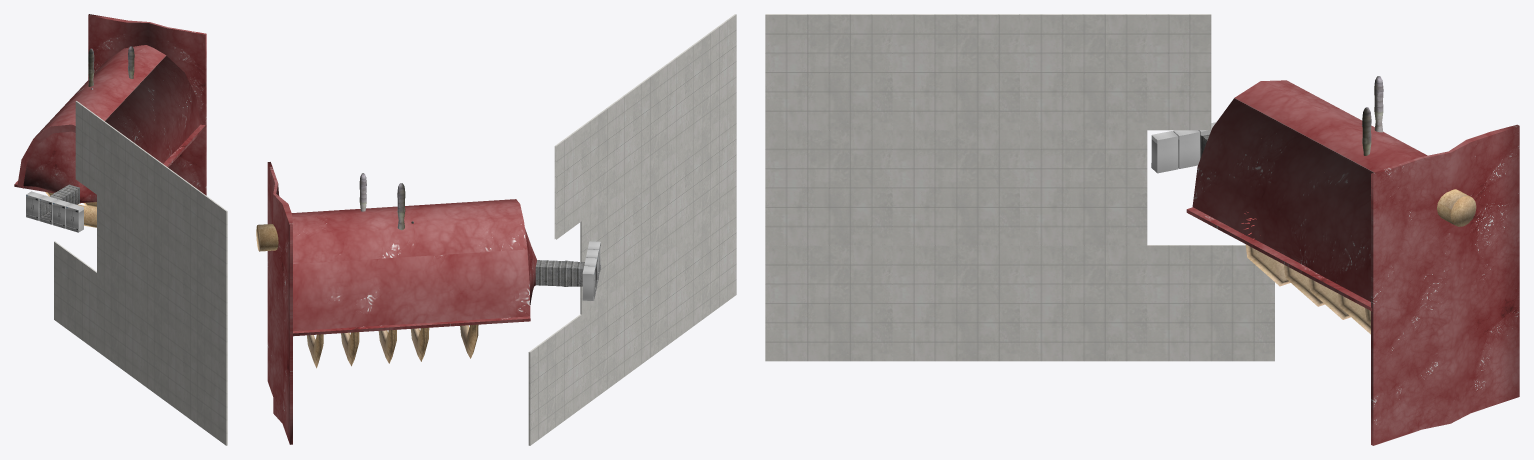
File: WhaleCum.fbx
3 renders of one model, left to right at view 1: azimuth 30°, elevation 25°; view 2: azimuth 150°, elevation 25°; view 3: azimuth 270°, elevation 25°, orthographic. The views are drawn at different scales.
Parts seen in each view (by area): view 1: Cube.447, Cylinder.127, Cube.580, Cube.083, Cube.270, Cube.390, bone_arch32.001, Cube.393; view 2: Cube.447, Cylinder.127, Cube.580, Cube.270, Cube.390, Cylinder.118; view 3: Cube.447, Cube.580, Cylinder.127, Cube.270, Cube.390, Cylinder.118, bone_arch32.001.
Part boxes in pixels (x1=…): Cube.447: x1=54, y1=101, x2=227, y2=445; Cylinder.127: x1=17, y1=45, x2=200, y2=188; Cube.580: x1=88, y1=14, x2=206, y2=195; Cube.083: x1=23, y1=131, x2=96, y2=203; Cube.270: x1=26, y1=184, x2=83, y2=232; Cube.390: x1=14, y1=124, x2=206, y2=193; bone_arch32.001: x1=45, y1=192, x2=96, y2=227; Cube.393: x1=88, y1=48, x2=94, y2=86; Cube.447: x1=528, y1=14, x2=736, y2=445; Cylinder.127: x1=291, y1=199, x2=530, y2=331; Cube.580: x1=267, y1=162, x2=292, y2=444; Cube.270: x1=535, y1=241, x2=600, y2=300; Cube.390: x1=293, y1=316, x2=530, y2=336; Cylinder.118: x1=256, y1=224, x2=278, y2=251; Cube.447: x1=765, y1=14, x2=1274, y2=361; Cube.580: x1=1371, y1=124, x2=1519, y2=445; Cylinder.127: x1=1192, y1=80, x2=1427, y2=301; Cube.270: x1=1151, y1=122, x2=1215, y2=173; Cube.390: x1=1186, y1=207, x2=1372, y2=311; Cylinder.118: x1=1437, y1=189, x2=1476, y2=226; bone_arch32.001: x1=1245, y1=244, x2=1290, y2=286.
Size of the model in its own units: 3644 by 3600 by 7106.
Materials: 8 (8 with a texture image).
